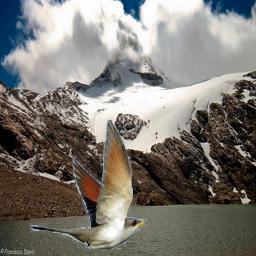Cuckoo: (30, 119, 147, 249)
